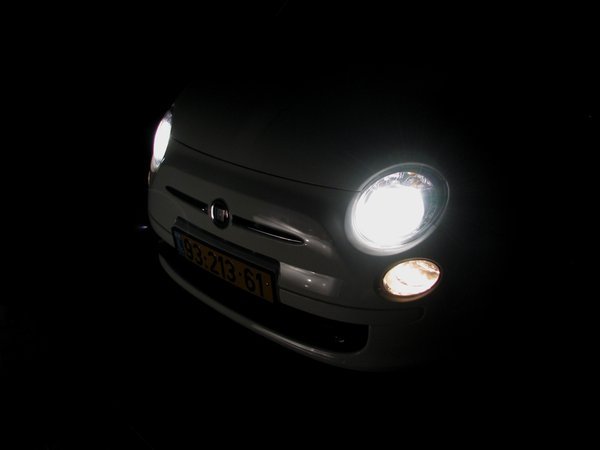car: (136, 5, 598, 380)
